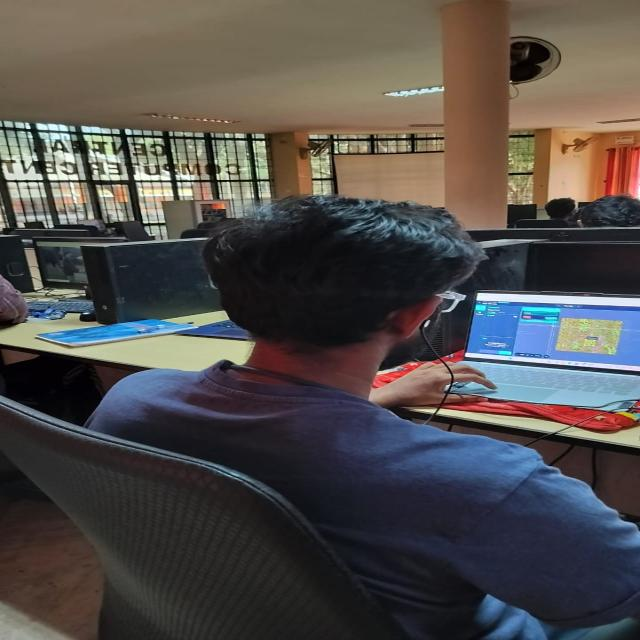person ahead at: (92, 187, 640, 640)
